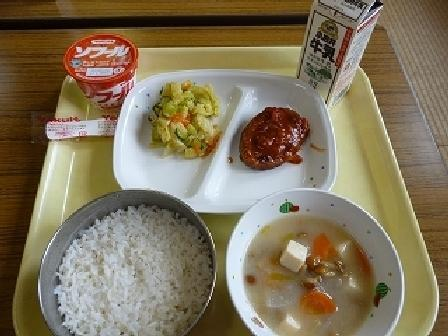Cup desserts: (51, 33, 143, 117)
Meat: (238, 97, 319, 178)
Milk: (293, 0, 383, 102)
Rice: (45, 185, 217, 329)
Soups: (227, 194, 407, 332)
vegetable based cooked food: (139, 77, 228, 158)
